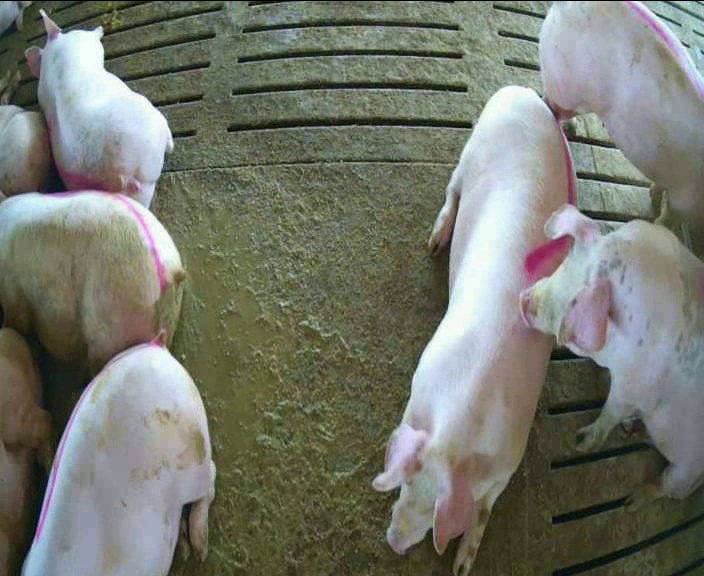pig: (373, 86, 573, 573), (521, 205, 703, 512), (23, 330, 214, 574), (539, 3, 703, 232), (26, 10, 172, 207)
